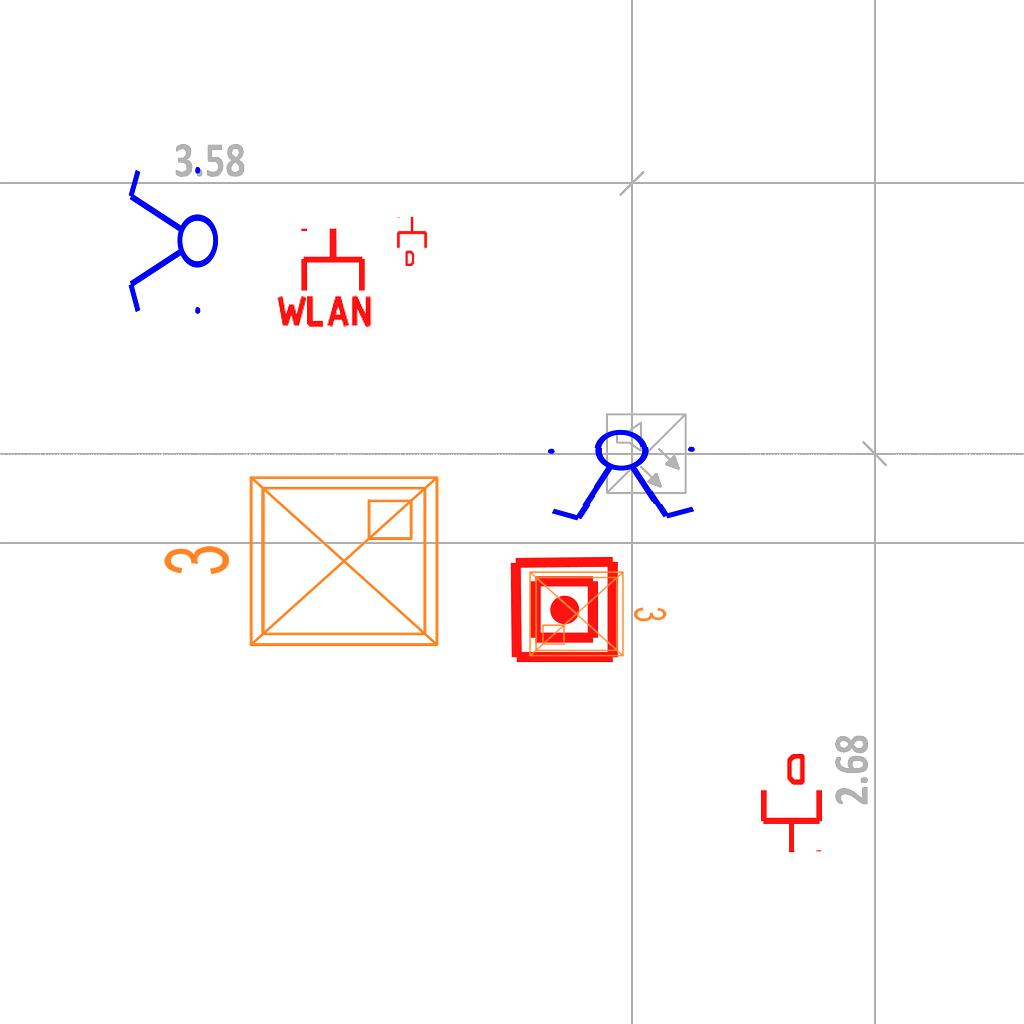Datenanschluss_einfach: (757, 754, 826, 854), (394, 215, 430, 267)
Einbaudownlights_LED_Konferenzraeume: (153, 461, 453, 669), (522, 560, 672, 664)
NAM-Nichtautomatischer_Melder: (508, 553, 621, 666)
Serienschalter: (538, 426, 708, 526), (124, 158, 220, 326)
WLAN: (272, 224, 376, 329)
